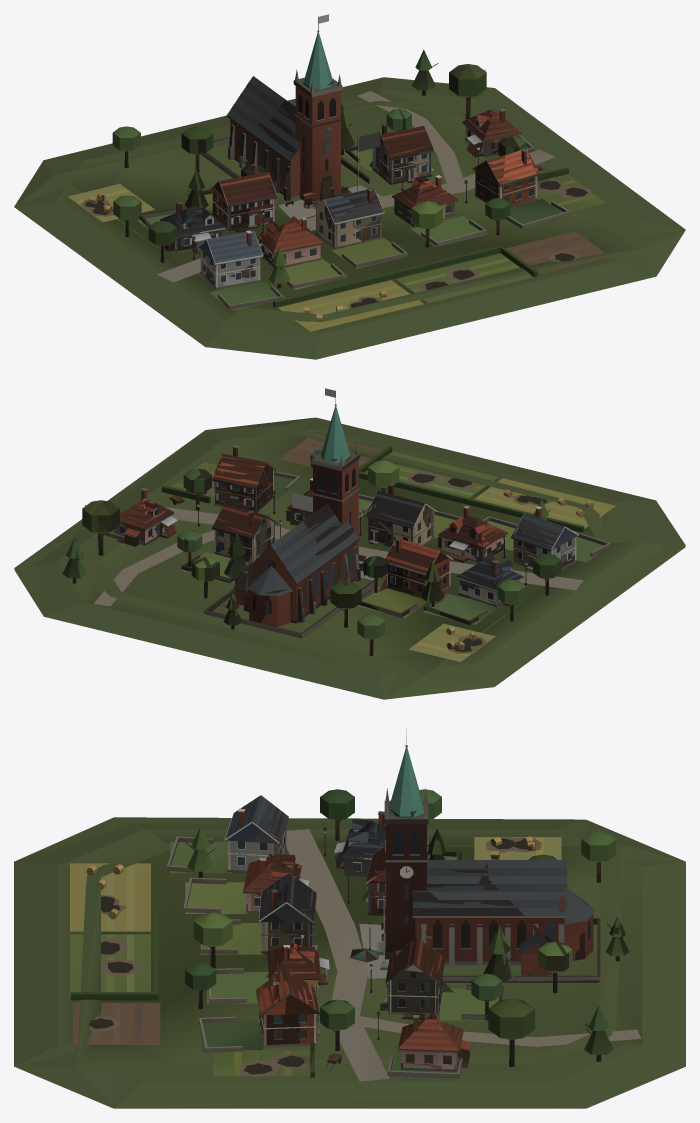
Rendered from city_any_village_fractured.glb.
3 renders of one model, top to bottom at view 1: azimuth 30°, elevation 25°; view 2: azimuth 150°, elevation 25°; view 3: azimuth 270°, elevation 25°, orthographic. The views are drawn at different scales.
Visible parts, largest first — view 1: city_any_village_DMG_mesh, city_any_village_RUIN_LOD0_mesh, city_any_village_RUIN_LOD2_mesh, city_any_village_FRAC_12_mesh, city_any_village_FRAC_19_mesh, city_any_village_FRAC_04_mesh, city_any_village_FRAC_15_mesh, city_any_village_FRAC_24_mesh, city_any_village_FRAC_16_mesh, city_any_village_FRAC_30_mesh, city_any_village_FRAC_22_mesh, city_any_village_FRAC_10_mesh (+10 smaller); view 2: city_any_village_DMG_mesh, city_any_village_RUIN_LOD0_mesh, city_any_village_RUIN_LOD2_mesh, city_any_village_FRAC_12_mesh, city_any_village_FRAC_04_mesh, city_any_village_FRAC_16_mesh, city_any_village_FRAC_21_mesh, city_any_village_FRAC_07_mesh, city_any_village_FRAC_10_mesh, city_any_village_FRAC_15_mesh, city_any_village_FRAC_24_mesh, city_any_village_FRAC_19_mesh (+11 smaller); view 3: city_any_village_DMG_mesh, city_any_village_RUIN_LOD0_mesh, city_any_village_RUIN_LOD2_mesh, city_any_village_FRAC_04_mesh, city_any_village_FRAC_27_mesh, city_any_village_FRAC_12_mesh, city_any_village_FRAC_08_mesh, city_any_village_FRAC_19_mesh, city_any_village_FRAC_10_mesh, city_any_village_FRAC_24_mesh, city_any_village_FRAC_06_mesh, city_any_village_RUIN_LOD1_mesh (+12 smaller).
Boxes of the visible parts, x1,y1,x2,y2 form: city_any_village_DMG_mesh: [44, 49, 655, 342]; city_any_village_RUIN_LOD0_mesh: [14, 63, 685, 359]; city_any_village_RUIN_LOD2_mesh: [14, 77, 685, 359]; city_any_village_FRAC_12_mesh: [270, 77, 358, 176]; city_any_village_FRAC_19_mesh: [198, 231, 286, 289]; city_any_village_FRAC_04_mesh: [228, 76, 285, 125]; city_any_village_FRAC_15_mesh: [260, 216, 368, 286]; city_any_village_FRAC_24_mesh: [313, 188, 384, 244]; city_any_village_FRAC_16_mesh: [215, 121, 284, 191]; city_any_village_FRAC_30_mesh: [284, 159, 402, 208]; city_any_village_FRAC_22_mesh: [466, 147, 535, 205]; city_any_village_FRAC_10_mesh: [372, 108, 477, 182]; city_any_village_DMG_mesh: [44, 425, 655, 682]; city_any_village_RUIN_LOD0_mesh: [14, 417, 685, 699]; city_any_village_RUIN_LOD2_mesh: [14, 417, 685, 699]; city_any_village_FRAC_12_mesh: [292, 451, 359, 563]; city_any_village_FRAC_04_mesh: [230, 521, 317, 599]; city_any_village_FRAC_16_mesh: [304, 544, 391, 623]; city_any_village_FRAC_21_mesh: [223, 587, 322, 638]; city_any_village_FRAC_07_mesh: [377, 537, 478, 596]; city_any_village_FRAC_10_mesh: [177, 503, 276, 571]; city_any_village_FRAC_15_mesh: [424, 507, 505, 562]; city_any_village_FRAC_24_mesh: [365, 484, 433, 545]; city_any_village_FRAC_19_mesh: [478, 508, 578, 571]; city_any_village_DMG_mesh: [44, 789, 655, 1090]; city_any_village_RUIN_LOD0_mesh: [14, 816, 685, 1108]; city_any_village_RUIN_LOD2_mesh: [15, 817, 684, 1108]; city_any_village_FRAC_04_mesh: [487, 860, 620, 944]; city_any_village_FRAC_27_mesh: [429, 883, 544, 990]; city_any_village_FRAC_12_mesh: [383, 800, 488, 933]; city_any_village_FRAC_08_mesh: [260, 992, 354, 1077]; city_any_village_FRAC_19_mesh: [190, 795, 300, 872]; city_any_village_FRAC_10_mesh: [379, 938, 502, 1020]; city_any_village_FRAC_24_mesh: [259, 873, 317, 951]; city_any_village_FRAC_06_mesh: [385, 728, 427, 818]; city_any_village_RUIN_LOD1_mesh: [92, 829, 601, 1074].
Bounding box in the file's own units: 110 × 41.01 × 108.
